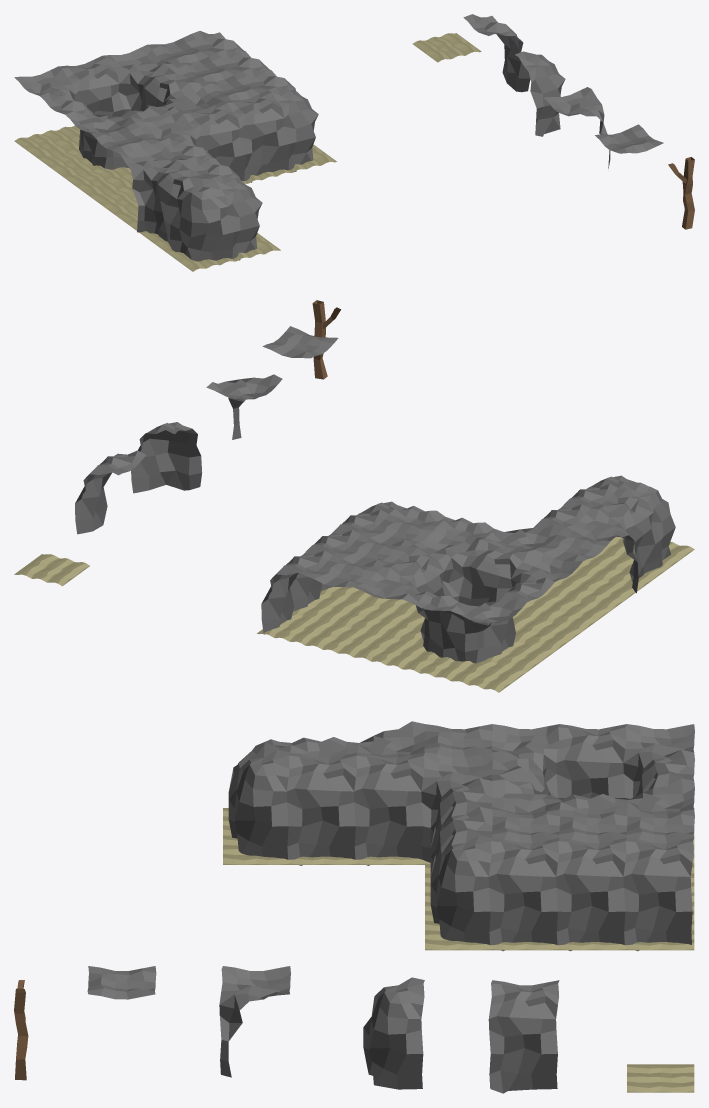
File: Modulair asset pack (1).fbx
3 views of the same model, one above another, from view 1: azimuth 30°, elevation 25°; view 2: azimuth 150°, elevation 25°; view 3: azimuth 270°, elevation 25° (orthographic). The views are drawn at different scales.
Visible parts, largest first — view 1: Rock Corner.004, Rock Wall.014, Rock Wall.013, Rock Wall.008, Rock Wall.012, Rock Corner.003, Rock Corner.001, Rock Corner.002, Rock Inner Corner.007, Rock Inner Corner.004, Rock Wall.001, Rock Wall.009 (+26 smaller); view 2: Rock Corner.002, Rock Wall.011, Rock Wall.012, Rock Wall.008, Rock Wall.001, Rock Wall.005, Rock Inner Corner.003, Rock Wall.009, Rock Wall.010, Rock Wall.004, Rock Inner Corner.007, Rock Inner Corner.006 (+32 smaller); view 3: Rock Wall.001, Rock Wall.006, Rock Wall.007, Rock Wall.003, Rock Wall.004, Rock Wall.005, Rock Corner.002, Rock Corner.001, Rock Corner.003, Rock Wall.010, Rock Inner Corner.006, Rock Inner Corner.001 (+22 smaller).
Boxes of the visible parts, left/top/right/bottom form: Rock Corner.004: left=170, top=178, right=233, bottom=261; Rock Wall.014: left=224, top=90, right=289, bottom=182; Rock Wall.013: left=179, top=101, right=245, bottom=180; Rock Wall.008: left=144, top=160, right=210, bottom=247; Rock Wall.012: left=58, top=55, right=124, bottom=116; Rock Corner.003: left=212, top=175, right=262, bottom=260; Rock Corner.001: left=268, top=86, right=318, bottom=171; Rock Corner.002: left=515, top=51, right=565, bottom=136; Rock Inner Corner.007: left=116, top=141, right=185, bottom=232; Rock Inner Corner.004: left=103, top=45, right=171, bottom=113; Rock Wall.001: left=463, top=14, right=530, bottom=92; Rock Wall.009: left=131, top=63, right=197, bottom=110; Rock Corner.002: left=131, top=422, right=202, bottom=493; Rock Wall.011: left=459, top=538, right=533, bottom=605; Rock Wall.012: left=402, top=591, right=477, bottom=663; Rock Wall.008: left=591, top=488, right=661, bottom=582; Rock Wall.001: left=75, top=450, right=145, bottom=534; Rock Wall.005: left=261, top=550, right=332, bottom=634; Rock Inner Corner.003: left=410, top=526, right=485, bottom=601; Rock Wall.009: left=382, top=546, right=452, bottom=640; Rock Wall.010: left=483, top=577, right=554, bottom=659; Rock Wall.004: left=290, top=530, right=360, bottom=611; Rock Inner Corner.007: left=563, top=508, right=638, bottom=593; Rock Inner Corner.006: left=206, top=374, right=282, bottom=439; Rock Wall.001: left=488, top=980, right=559, bottom=1093; Rock Wall.006: left=354, top=752, right=424, bottom=865; Rock Wall.007: left=286, top=752, right=357, bottom=865; Rock Wall.003: left=488, top=838, right=559, bottom=951; Rock Wall.004: left=556, top=838, right=626, bottom=951; Rock Wall.005: left=623, top=838, right=693, bottom=951; Rock Corner.002: left=363, top=977, right=424, bottom=1089; Rock Corner.001: left=430, top=835, right=491, bottom=944; Rock Corner.003: left=228, top=749, right=289, bottom=859; Rock Wall.010: left=556, top=724, right=626, bottom=799; Rock Inner Corner.006: left=219, top=966, right=290, bottom=1077; Rock Inner Corner.001: left=421, top=752, right=492, bottom=862.
Size of the model in its own units: 20.1 by 3.06 by 20.23.
